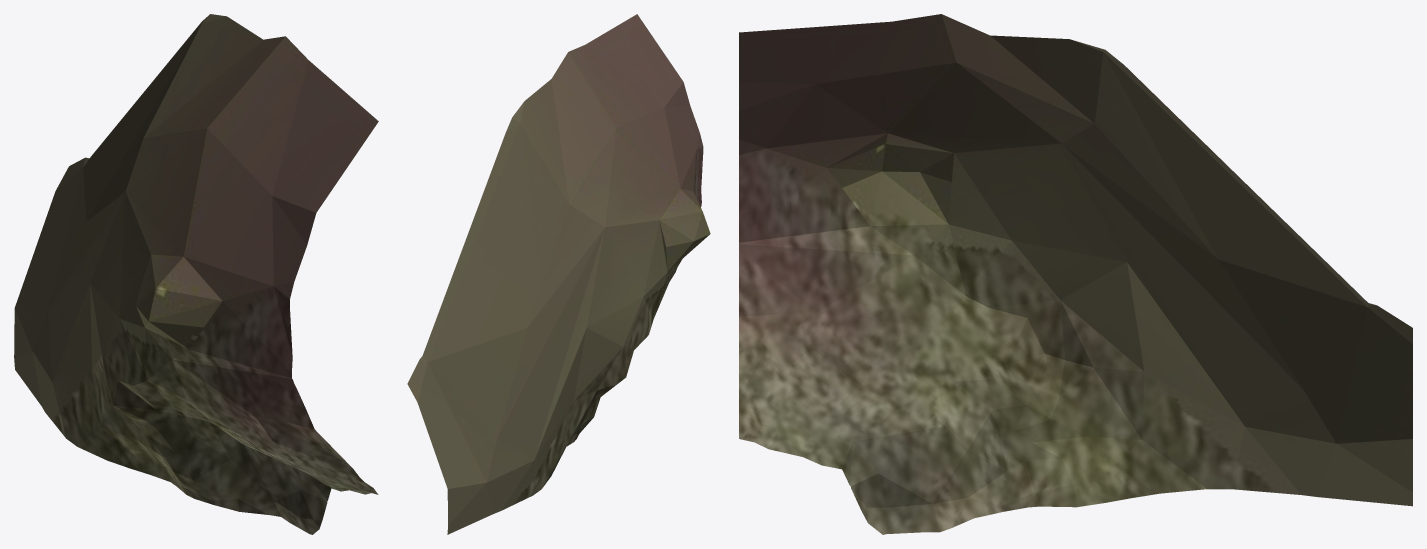
The picture shows the model from 3 angles, left to right: view 1: azimuth 30°, elevation 25°; view 2: azimuth 150°, elevation 25°; view 3: azimuth 270°, elevation 25°; orthographic projection. The views are drawn at different scales.
Bounding box in the file's own units: 0.9042 × 2.52 × 2.95.
Materials: 2 (2 with a texture image).
